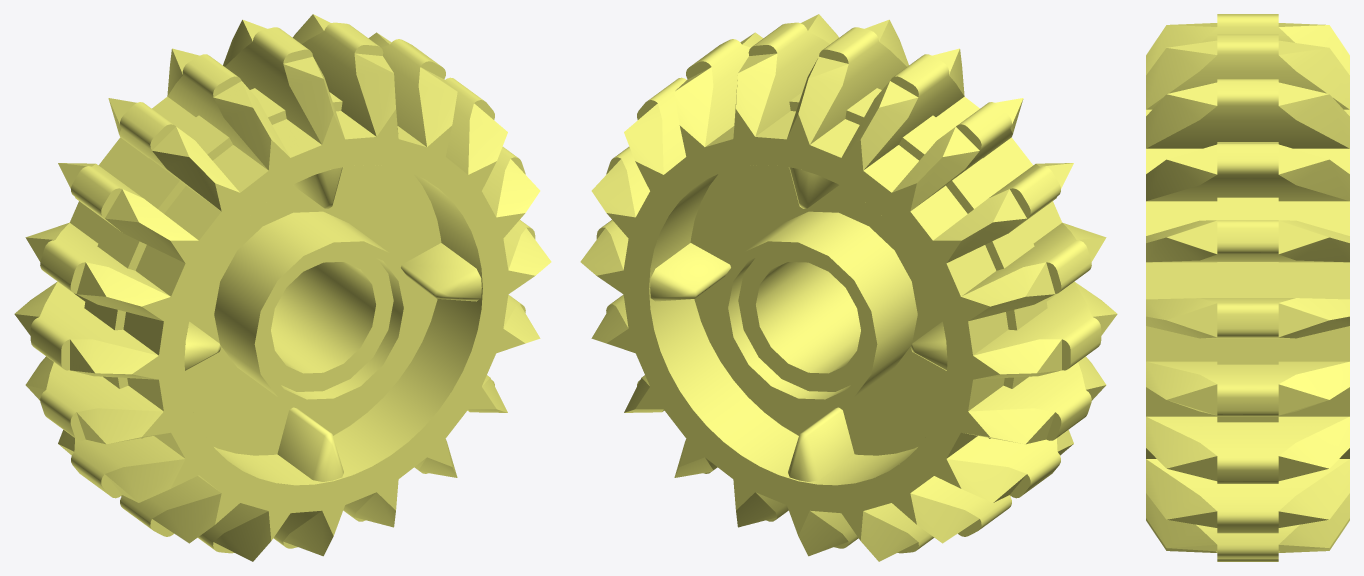
3 views of the same model, side by side, from view 1: azimuth 30°, elevation 25°; view 2: azimuth 150°, elevation 25°; view 3: azimuth 270°, elevation 25° (orthographic).
Parts seen in each view (by area): view 1: 35185.dat; view 2: 35185.dat; view 3: 35185.dat.
Part boxes in pixels (box(x1,y1,x2,y2)): 35185.dat: box(14, 14, 551, 561); 35185.dat: box(580, 14, 1117, 561); 35185.dat: box(1146, 14, 1349, 561).
Bounding box in the file's own units: 0.0216 × 0.0216 × 0.008.
